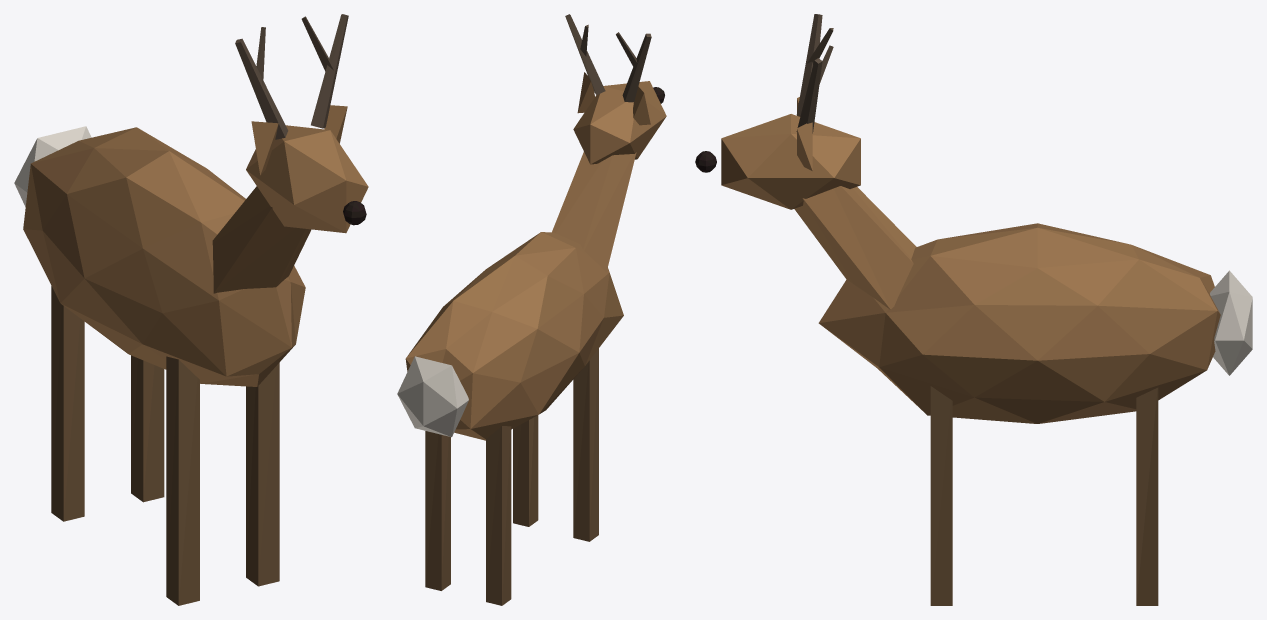
File: bete-chevreuil.glb
The picture shows the model from 3 angles, left to right: view 1: azimuth 30°, elevation 25°; view 2: azimuth 150°, elevation 25°; view 3: azimuth 270°, elevation 25°; orthographic projection. The views are drawn at different scales.
Bounding box in the file's own units: 0.3204 × 1.1 × 1.02.
